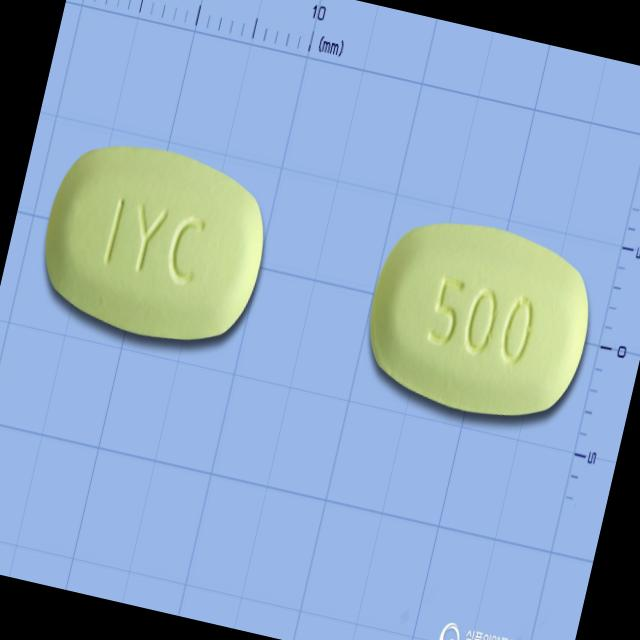Clafacin: (348, 198, 612, 442), (22, 122, 286, 365)
